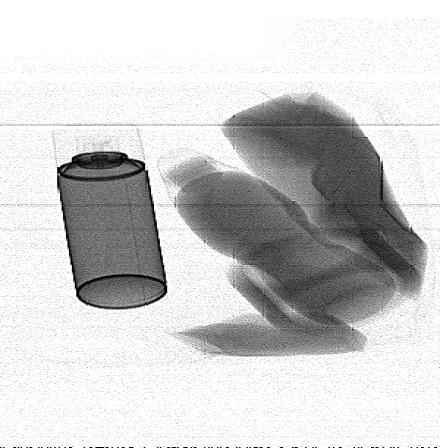Sprayer: (51, 125, 169, 310)
